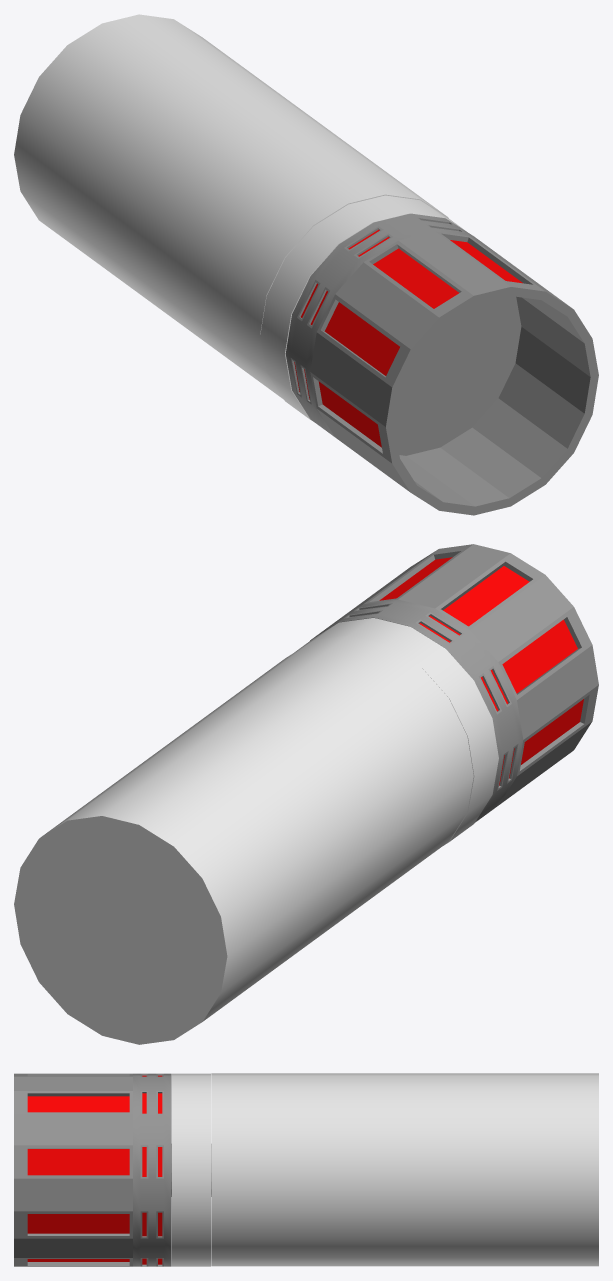
Rendered from LightGun.FBX.
The picture shows the model from 3 angles, top to bottom: view 1: azimuth 30°, elevation 25°; view 2: azimuth 150°, elevation 25°; view 3: azimuth 270°, elevation 25°; orthographic projection. The views are drawn at different scales.
Parts seen in each view (by area): view 1: Cylinder001, Cylinder003, Cylinder002; view 2: Cylinder001, Cylinder003, Cylinder002; view 3: Cylinder001, Cylinder003, Cylinder002.
Boxes of the visible parts, x1,y1,x2,y2 form: Cylinder001: (14, 14, 448, 399); Cylinder003: (285, 213, 598, 515); Cylinder002: (260, 195, 466, 420); Cylinder001: (14, 635, 473, 1044); Cylinder003: (310, 544, 598, 822); Cylinder002: (295, 618, 498, 845); Cylinder001: (211, 1073, 598, 1266); Cylinder003: (14, 1073, 211, 1266); Cylinder002: (172, 1073, 210, 1266).
Size of the model in its own units: 50.13 by 49.37 by 151.
